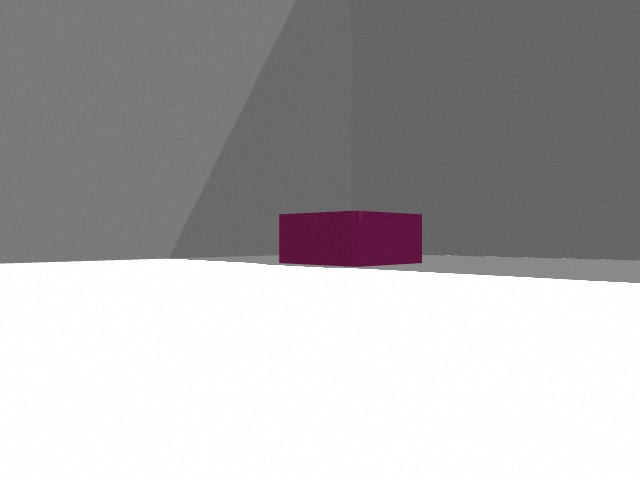red_drop_zone: (279, 211, 422, 267)
